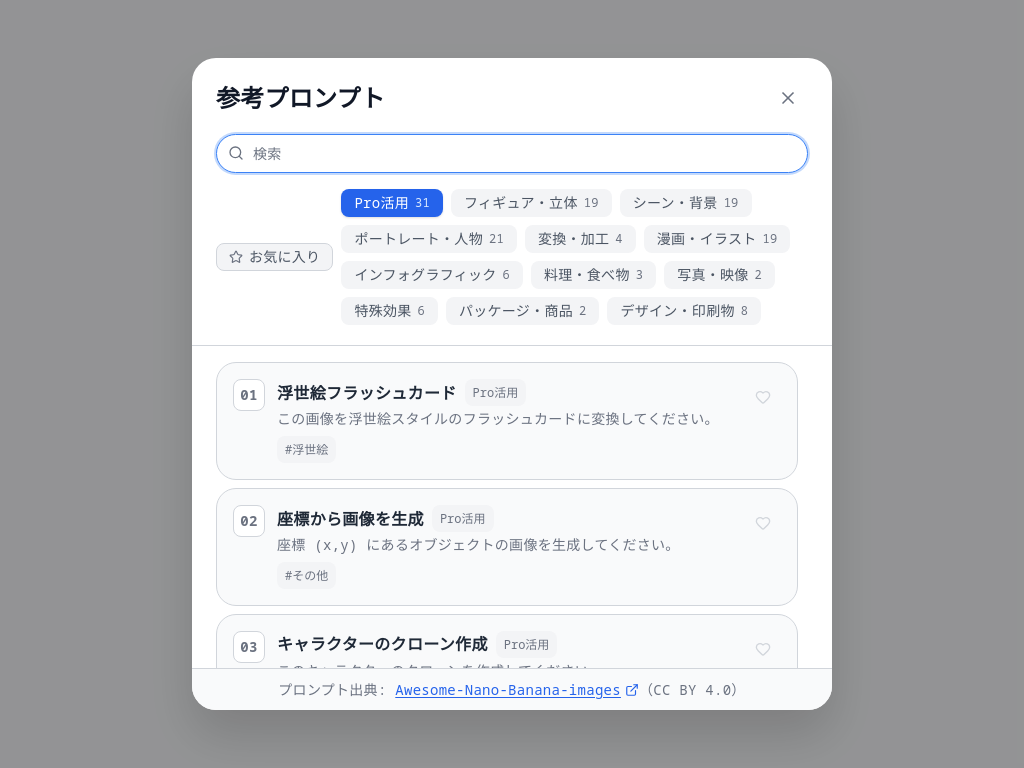
Test: PromptReferencePicker › filters prompts by search query
Type "座標" into the search field with placeholder "検索". click: {"x": 512, "y": 153}
box: top-left (216, 134), bottom-right (808, 173)
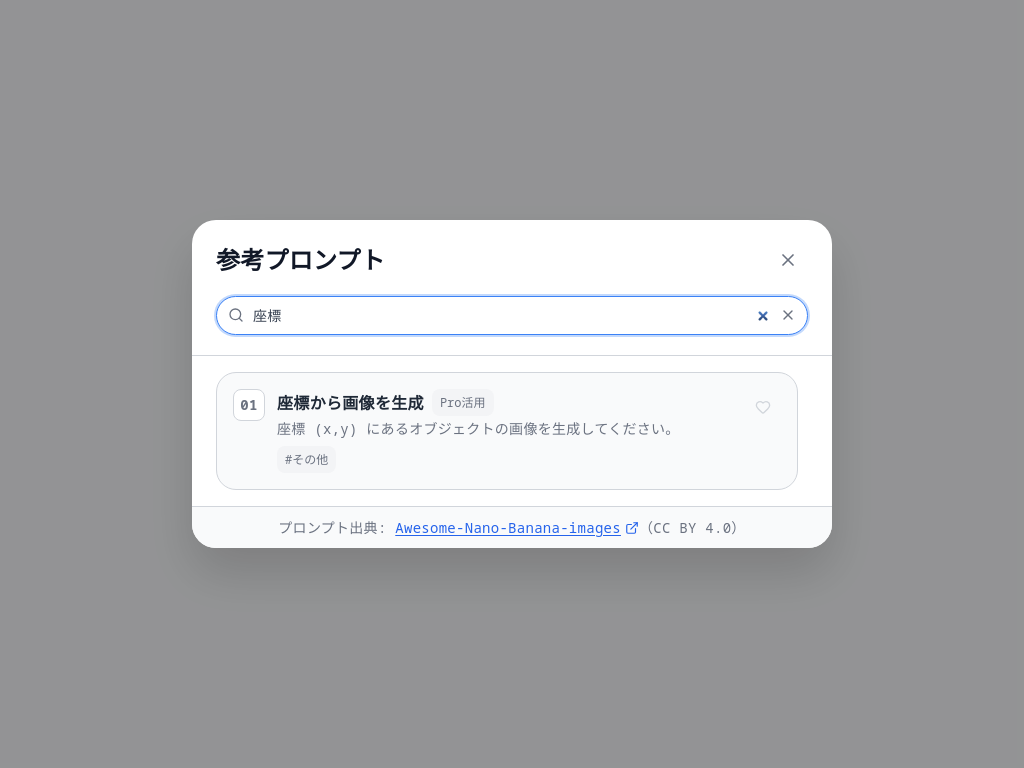
Expected: the button "01 座標から画像を生成 Pro活用 座標 (x,y) にあるオブジェクトの画像を生成してください。 #その他" is shown, top-left (233, 389), bottom-right (733, 473)
Expected: the button "浮世絵フラッシュカード" is gone
